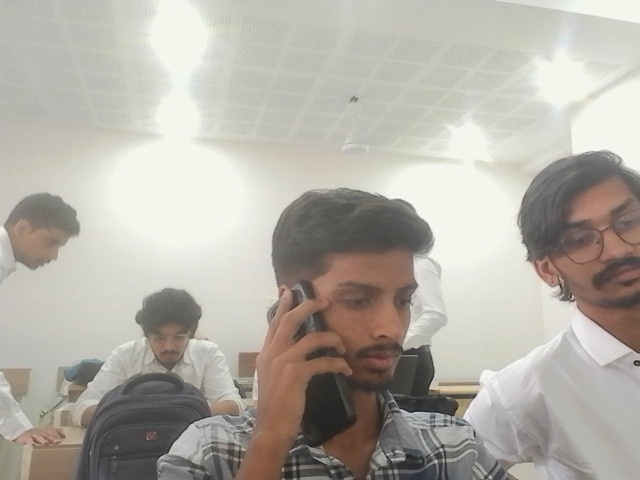fan_on: (339, 94, 369, 155)
light_on: (368, 163, 494, 217), (536, 67, 601, 110), (164, 102, 206, 151), (148, 10, 183, 53)
person: (155, 187, 527, 479), (462, 150, 639, 479), (72, 280, 241, 424), (0, 168, 75, 478)
